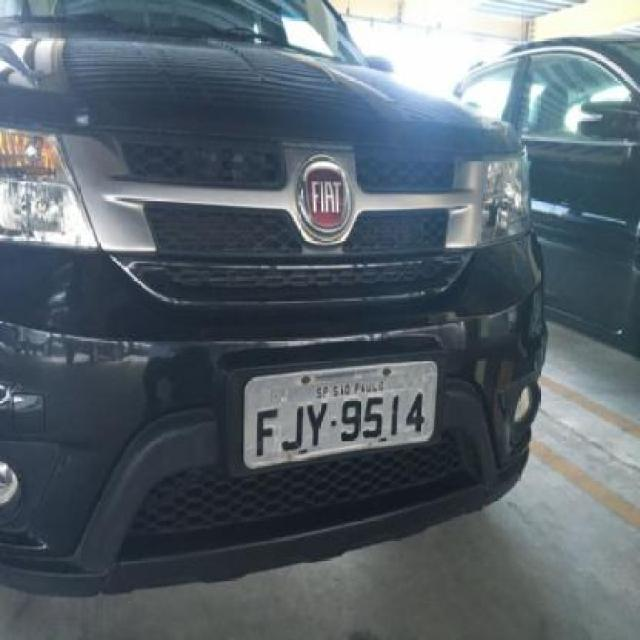old_plate: (237, 354, 445, 476)
